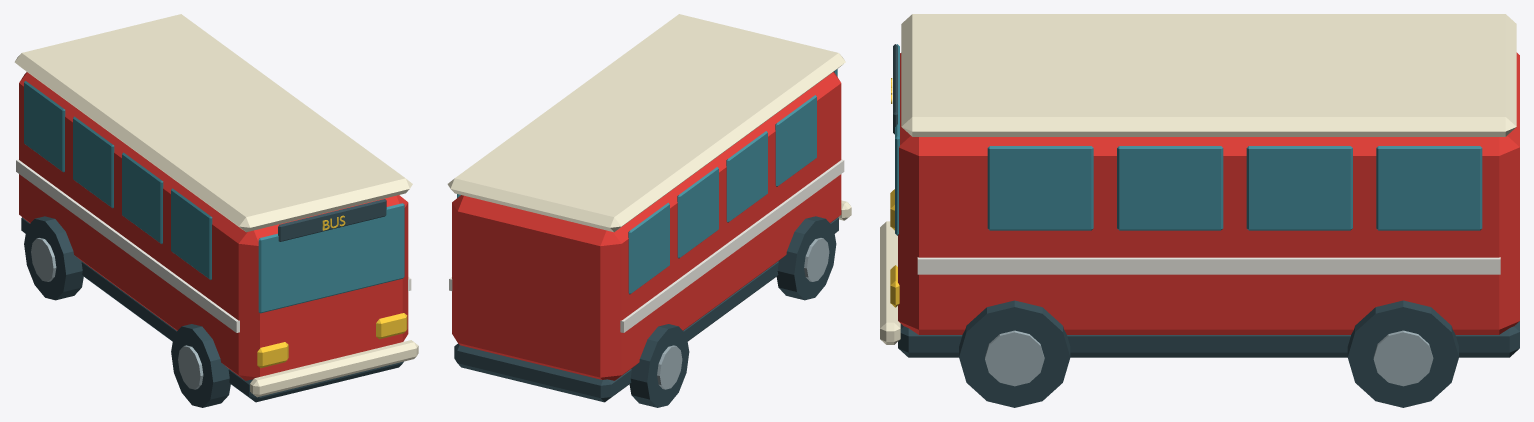
Rendered from bus.glb.
3 renders of one model, left to right at view 1: azimuth 30°, elevation 25°; view 2: azimuth 150°, elevation 25°; view 3: azimuth 270°, elevation 25°, orthographic. The views are drawn at different scales.
Parts seen in each view (by area): view 1: Bus; view 2: Bus; view 3: Bus.
Part boxes in pixels (box(x1,y1,x2,y2)): Bus: box(14, 14, 418, 407); Bus: box(447, 14, 851, 407); Bus: box(880, 14, 1519, 407).
Size of the model in its own units: 2.31 by 2.39 by 4.94.
